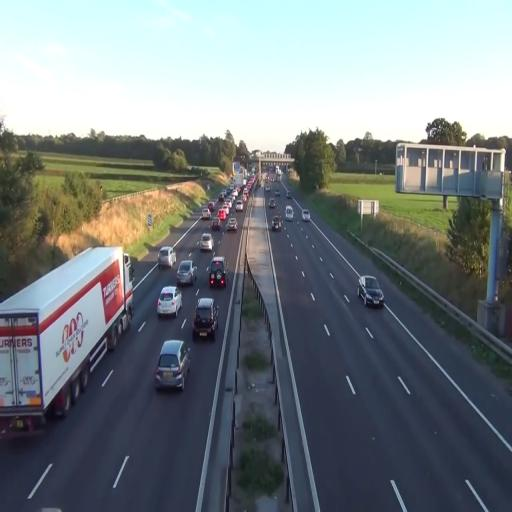vehicle: (0, 246, 134, 434), (154, 339, 190, 391), (192, 296, 219, 340), (358, 274, 384, 308), (156, 285, 182, 318), (207, 256, 227, 290), (176, 260, 196, 288), (157, 246, 177, 269), (199, 232, 214, 254), (272, 215, 282, 232), (285, 203, 294, 219), (227, 220, 238, 232), (302, 209, 310, 220)
